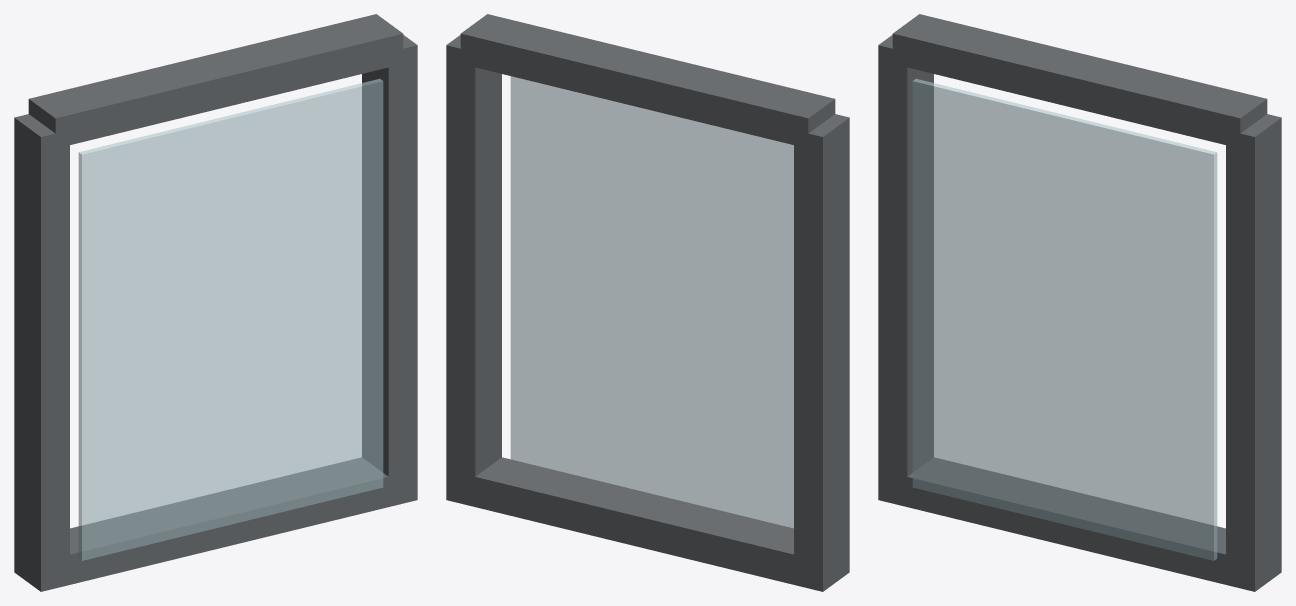
The model's file is window_bay_02.glb.
The picture shows the model from 3 angles, left to right: view 1: azimuth 30°, elevation 25°; view 2: azimuth 150°, elevation 25°; view 3: azimuth 330°, elevation 25°; orthographic projection.
Visible parts, largest first — view 1: glass, side-0.6, side0.6, top, frame; view 2: glass, side-0.6, side0.6, top, frame; view 3: glass, side0.6, side-0.6, top, frame.
Boxes of the visible parts, box(x1,y1,x2,y2) form: glass: box(78, 79, 383, 560); side-0.6: box(14, 114, 69, 591); side0.6: box(362, 35, 417, 503); top: box(28, 14, 403, 148); frame: box(55, 457, 403, 588); glass: box(510, 76, 793, 528); side-0.6: box(794, 114, 849, 591); side0.6: box(446, 35, 501, 506); top: box(460, 14, 835, 144); frame: box(460, 457, 808, 588); glass: box(912, 79, 1217, 560); side0.6: box(1226, 114, 1281, 591); side-0.6: box(878, 35, 933, 505); top: box(892, 14, 1267, 148); frame: box(892, 457, 1240, 588).
Bounding box in the file's own units: 1.3 × 1.55 × 0.18.
